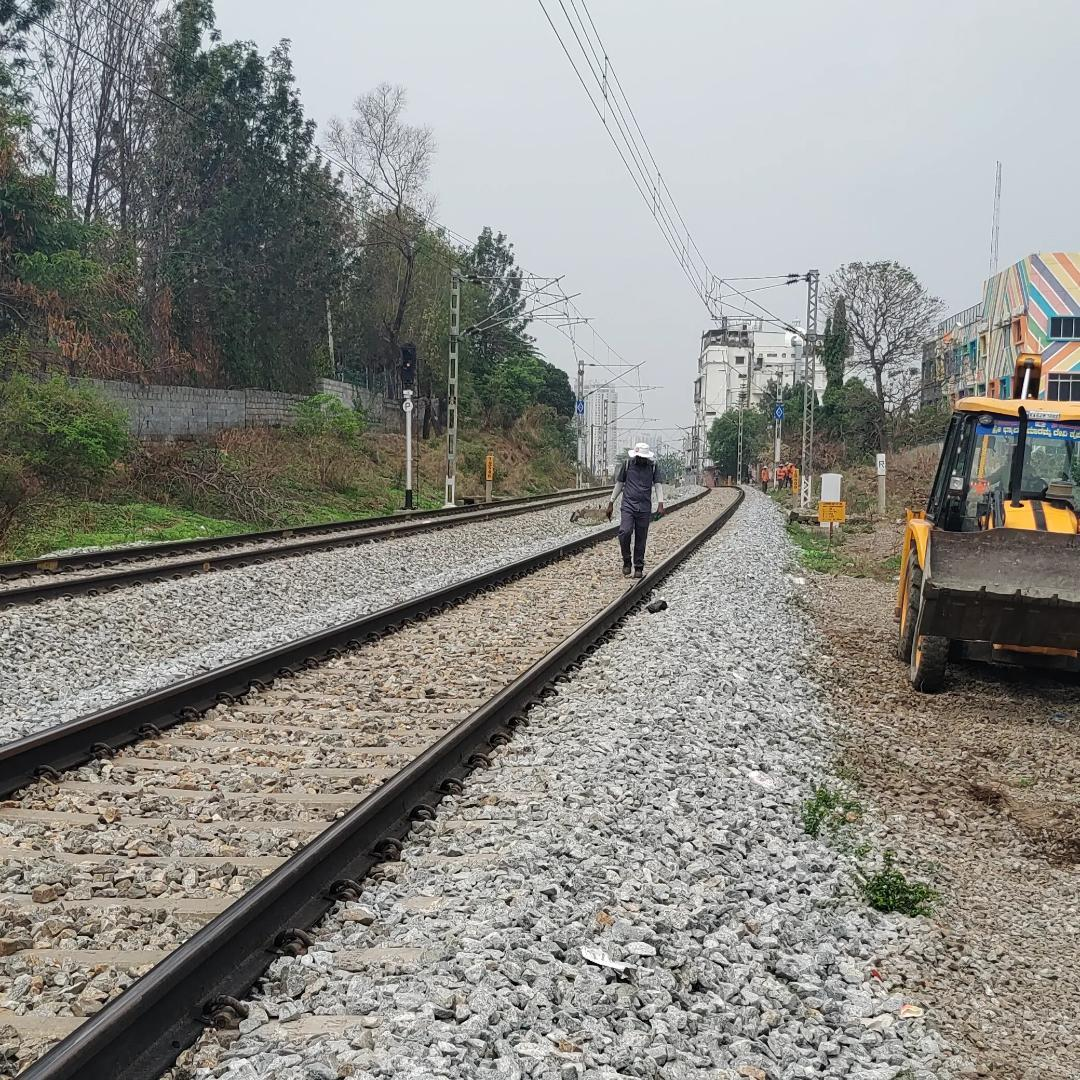standing: (601, 431, 675, 589)
track: (0, 478, 762, 1080)
